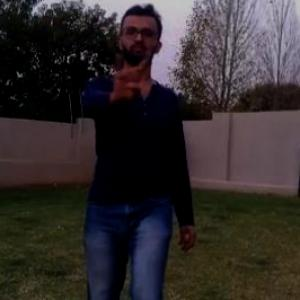takeoff-hand: (102, 43, 151, 105)
